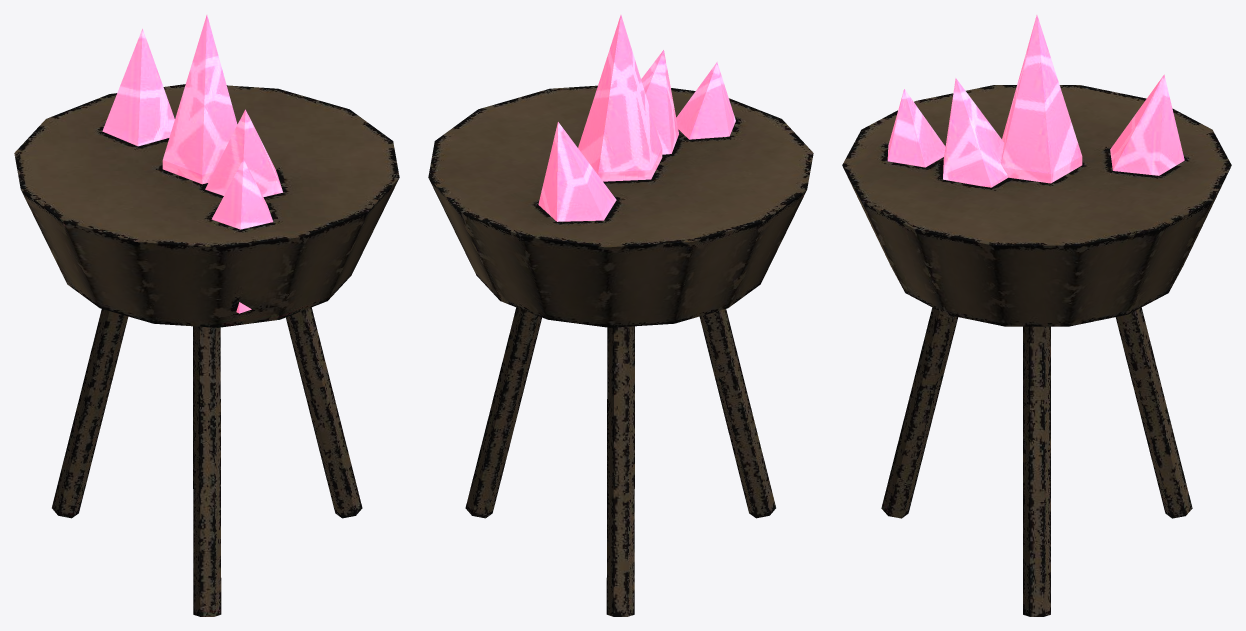
Rendered from braseiro_rubro.glb.
3 views of the same model, side by side, from view 1: azimuth 30°, elevation 25°; view 2: azimuth 150°, elevation 25°; view 3: azimuth 270°, elevation 25° (orthographic).
Parts seen in each view (by area): view 1: braseiro_rubro; view 2: braseiro_rubro; view 3: braseiro_rubro.
Part boxes in pixels (x1,y1,x2,y2): braseiro_rubro: (14,15,399,616); braseiro_rubro: (428,15,813,616); braseiro_rubro: (842,15,1231,616).
Size of the model in its own units: 1.09 by 1.69 by 1.12.
1 material, 1 textured.
